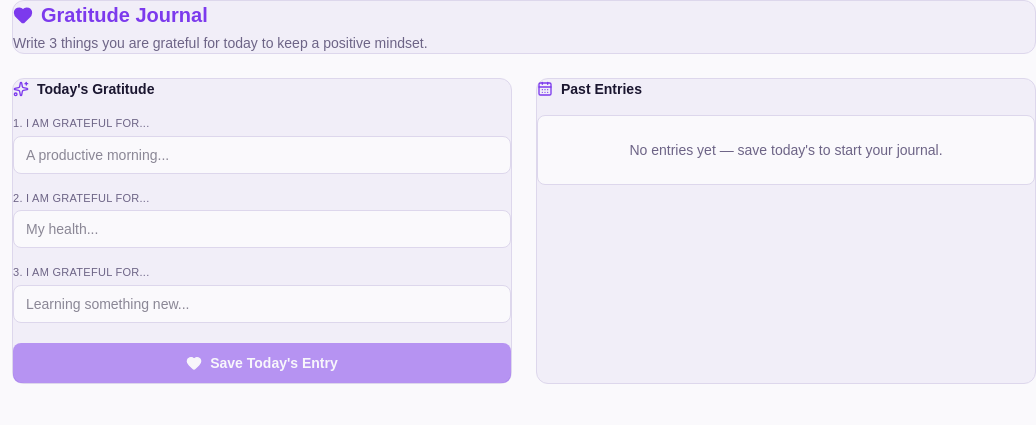
Test: saving › shows an error and no confirmation when the save fails
This screenshot has width=1036, height=425.
Expected: the text "No entries yet — save today's to start your journal." is shown, [537, 115, 1035, 185]
Type "one" into the field with placeholder "A productive morning..." at (262, 154), box [13, 136, 511, 174]
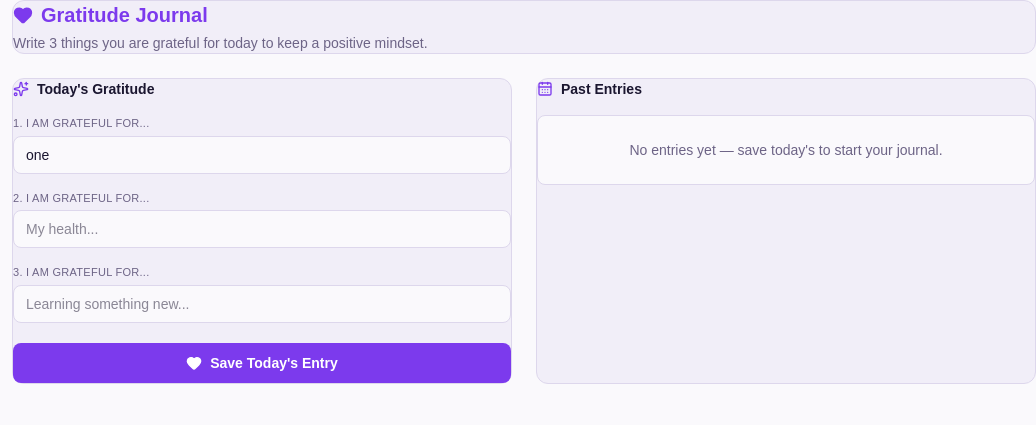
Click the button "Save Today's Entry" at (262, 362), box [13, 342, 511, 382]
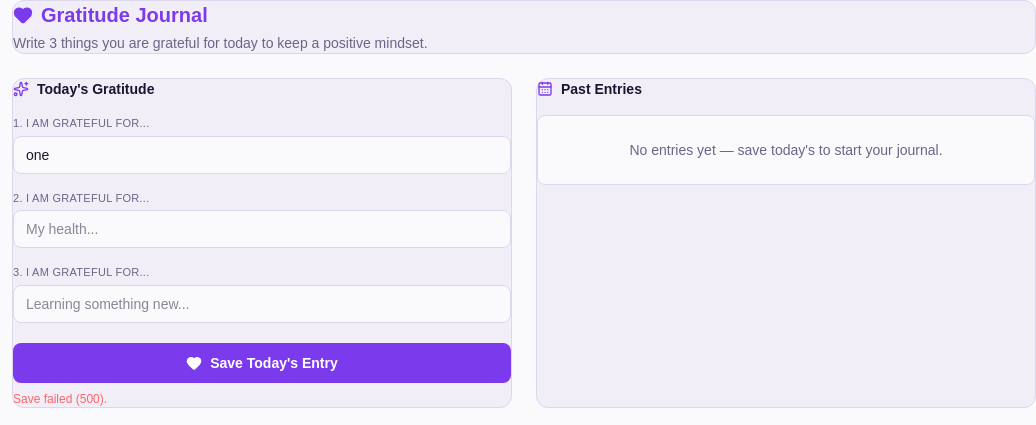
Expected: the button "Save Today's Entry" is enabled, [13, 342, 511, 382]
Expected: the text "Save failed (500)." is shown, [13, 392, 107, 406]
